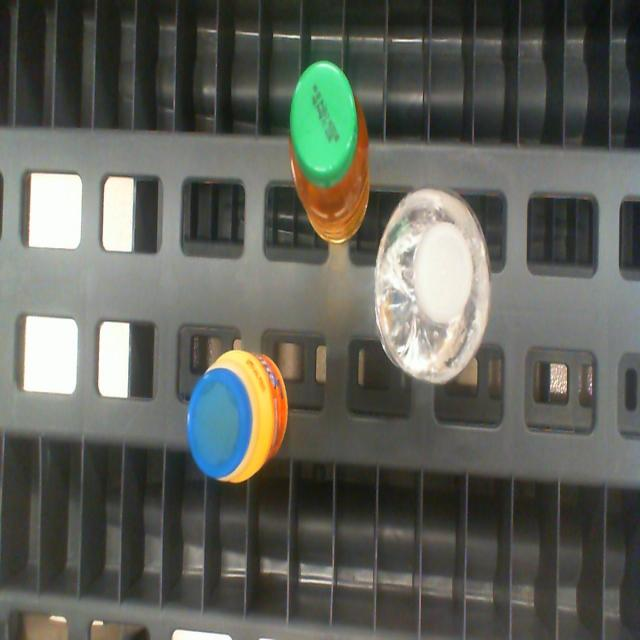drink: (292, 58, 358, 185), (187, 367, 252, 476), (417, 223, 473, 323)
